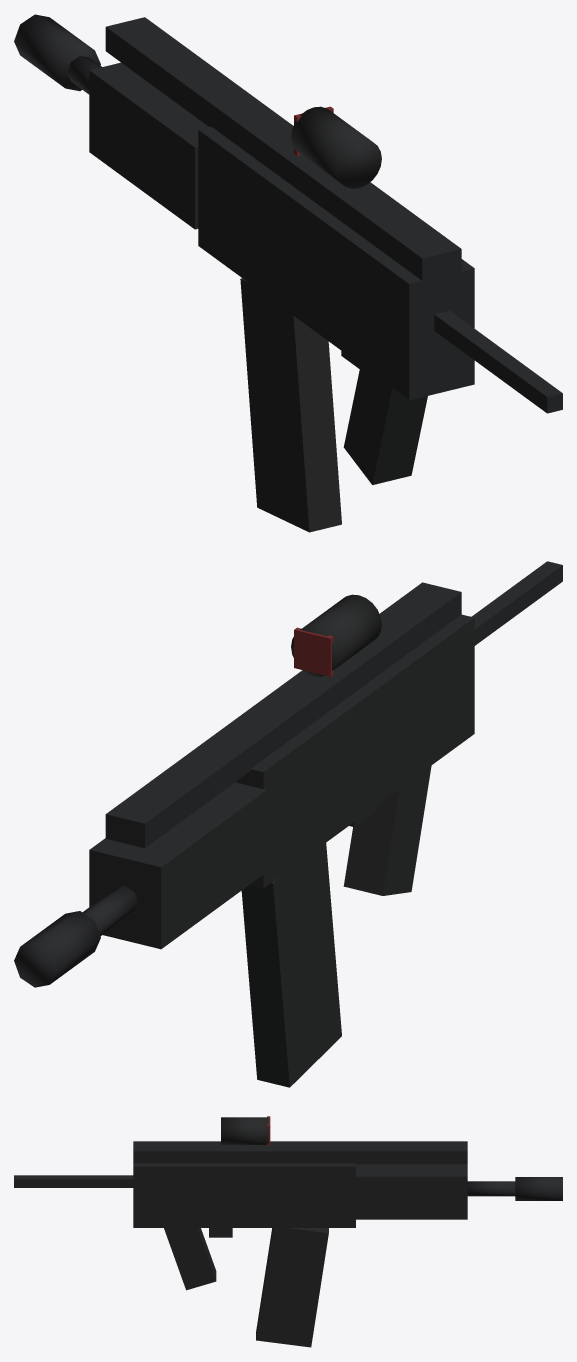
File: SMG_Blue.fbx
The picture shows the model from 3 angles, top to bottom: view 1: azimuth 30°, elevation 25°; view 2: azimuth 150°, elevation 25°; view 3: azimuth 270°, elevation 25°; orthographic projection. The views are drawn at different scales.
Parts seen in each view (by area): view 1: Receiver, Rail, Magazine, Handguard, Grip, Optic, StockWire, MuzzleDevice, Barrel; view 2: Receiver, Rail, Magazine, Handguard, Grip, MuzzleDevice, Optic, StockWire, OpticLens, Barrel; view 3: Receiver, Rail, Magazine, Handguard, Grip, StockWire, Optic, MuzzleDevice, Barrel.
Boxes of the visible parts, bbox=[...] form: Receiver: bbox=[198, 126, 474, 400]; Rail: bbox=[105, 17, 461, 282]; Magazine: bbox=[240, 278, 341, 532]; Handguard: bbox=[89, 62, 208, 229]; Grip: bbox=[343, 365, 427, 484]; Optic: bbox=[291, 106, 381, 188]; StockWire: bbox=[434, 310, 562, 413]; MuzzleDevice: bbox=[14, 14, 100, 91]; Barrel: bbox=[67, 56, 101, 94]; Receiver: bbox=[235, 614, 474, 888]; Rail: bbox=[105, 582, 461, 848]; Magazine: bbox=[241, 843, 341, 1087]; Handguard: bbox=[89, 782, 266, 949]; Grip: bbox=[343, 765, 431, 895]; MuzzleDevice: bbox=[14, 911, 100, 987]; Optic: bbox=[291, 594, 381, 676]; StockWire: bbox=[471, 561, 562, 645]; OpticLens: bbox=[294, 627, 333, 676]; Barrel: bbox=[82, 886, 138, 936]; Receiver: bbox=[133, 1163, 355, 1227]; Rail: bbox=[133, 1141, 467, 1164]; Magazine: bbox=[256, 1228, 328, 1347]; Handguard: bbox=[356, 1164, 467, 1219]; Grip: bbox=[164, 1228, 216, 1290]; StockWire: bbox=[14, 1175, 133, 1187]; Optic: bbox=[221, 1117, 268, 1144]; MuzzleDevice: bbox=[515, 1177, 562, 1200]; Barrel: bbox=[467, 1181, 515, 1196].
Bounding box in the file's own units: 5.5 × 69 × 31.16.
